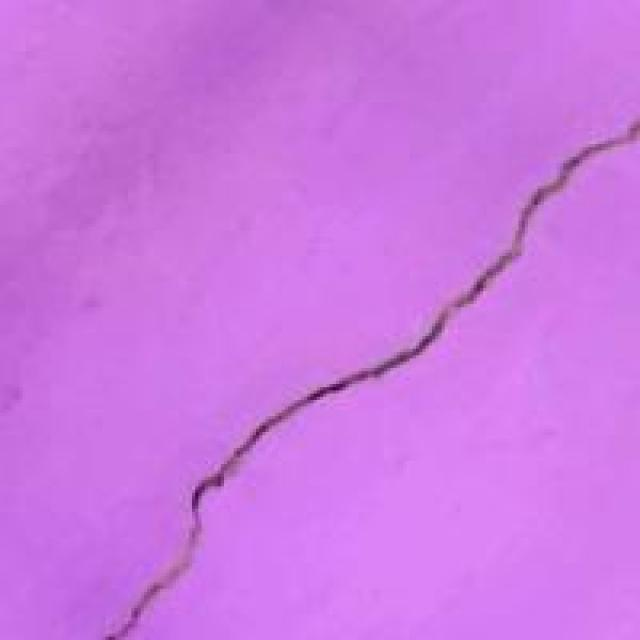crack: (89, 112, 636, 637)
